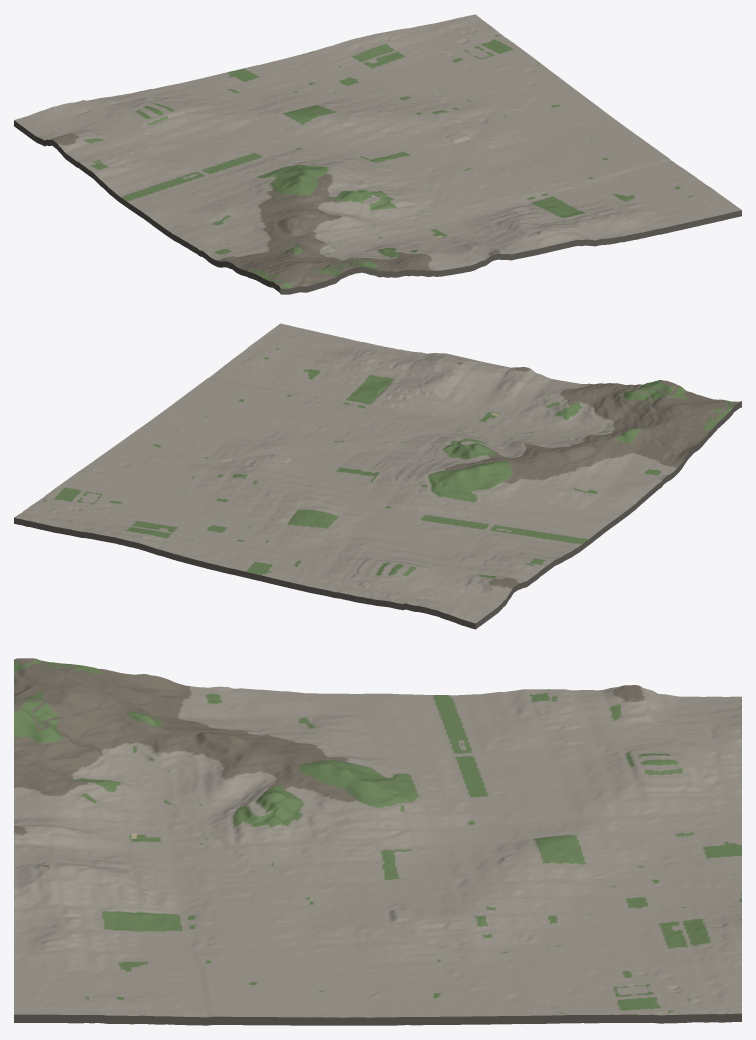
File: terrain_2_3.glb
The picture shows the model from 3 angles, top to bottom: view 1: azimuth 30°, elevation 25°; view 2: azimuth 150°, elevation 25°; view 3: azimuth 270°, elevation 25°; orthographic projection. The views are drawn at different scales.
Parts seen in each view (by area): view 1: terrain_2_3; view 2: terrain_2_3; view 3: terrain_2_3.
Boxes of the visible parts, bbox=[...] form: terrain_2_3: bbox=[14, 14, 741, 294]; terrain_2_3: bbox=[14, 323, 741, 629]; terrain_2_3: bbox=[14, 658, 741, 1025].
Size of the model in its own units: 3200 by 298 by 3200.
